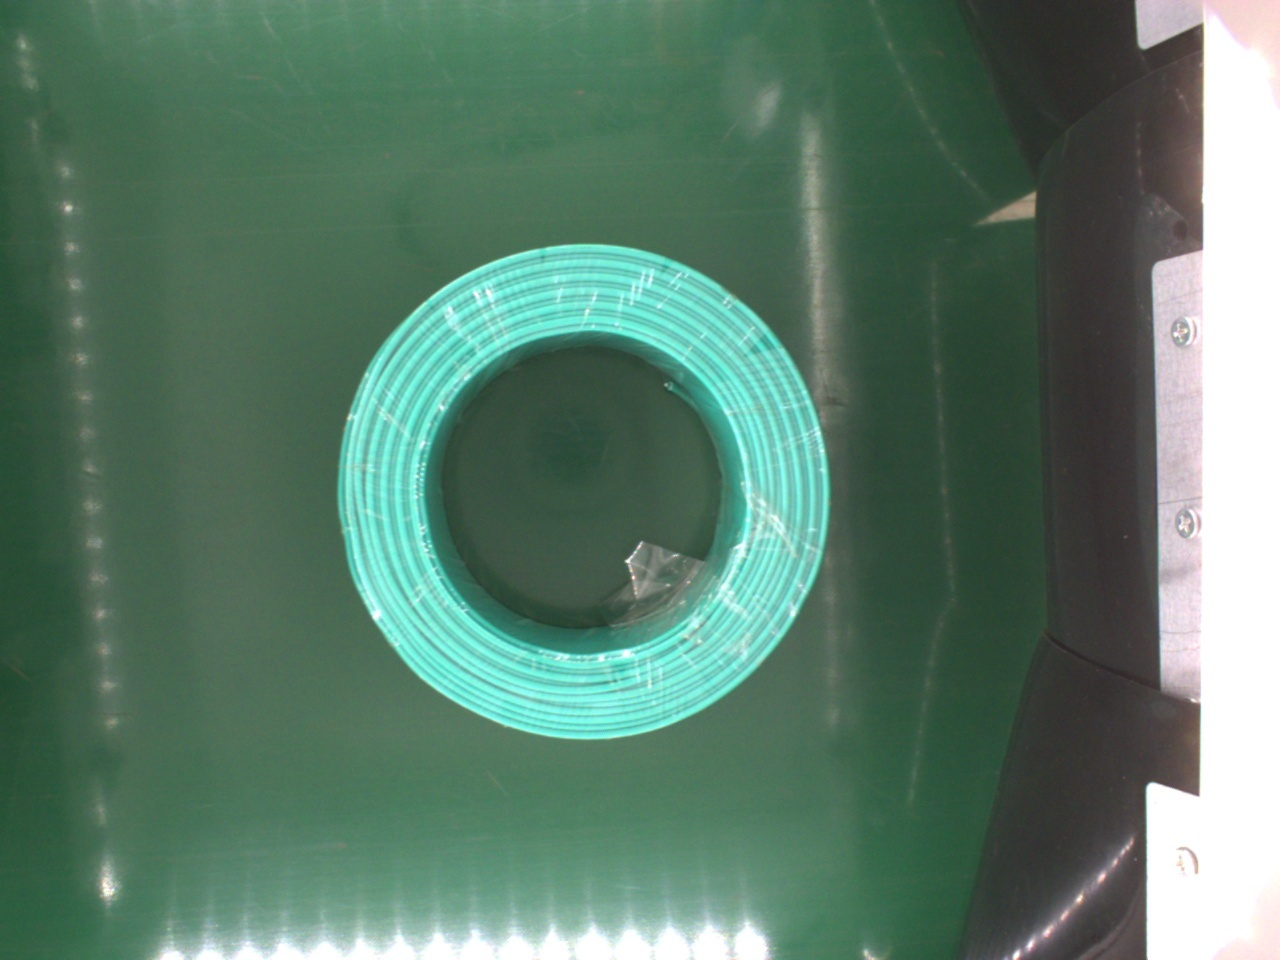green: (342, 240, 830, 746)
